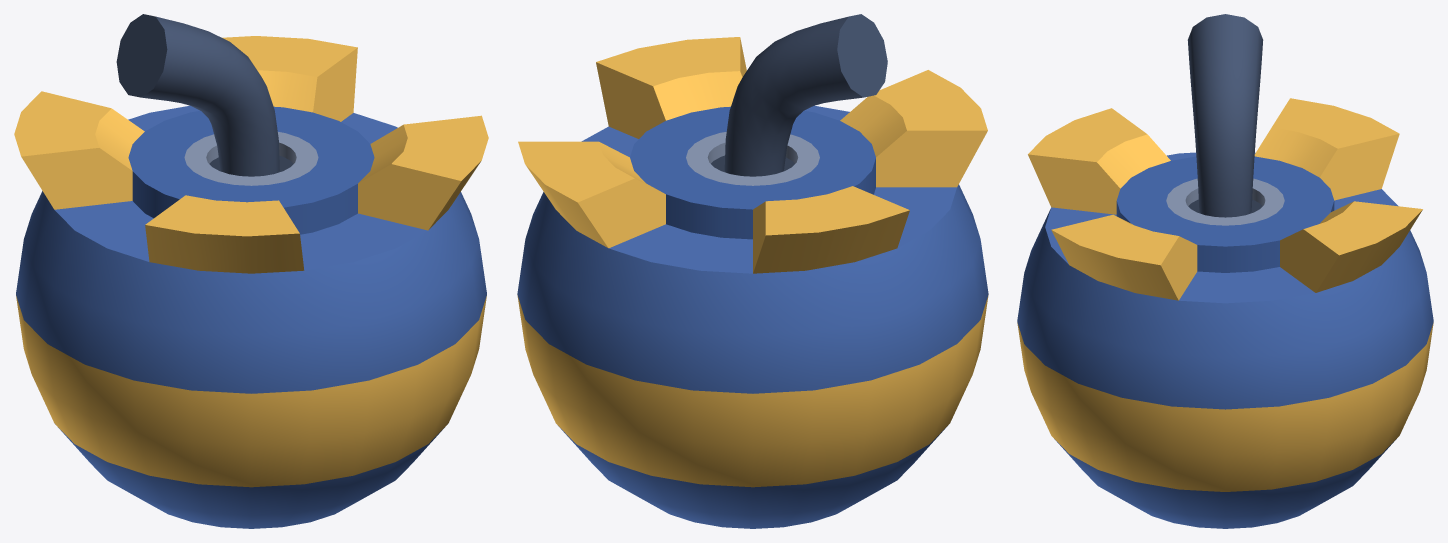
The model's file is Bomb B Multi.fbx.
3 renders of one model, left to right at view 1: azimuth 30°, elevation 25°; view 2: azimuth 150°, elevation 25°; view 3: azimuth 270°, elevation 25°, orthographic. The views are drawn at different scales.
Visible parts, largest first — view 1: Bomb B; view 2: Bomb B; view 3: Bomb B.
Boxes of the visible parts, x1,y1,x2,y2 form: Bomb B: (14,14,488,528); Bomb B: (517,14,988,528); Bomb B: (1017,14,1433,528).
Size of the model in its own units: 0.6337 by 0.7635 by 0.6337.
